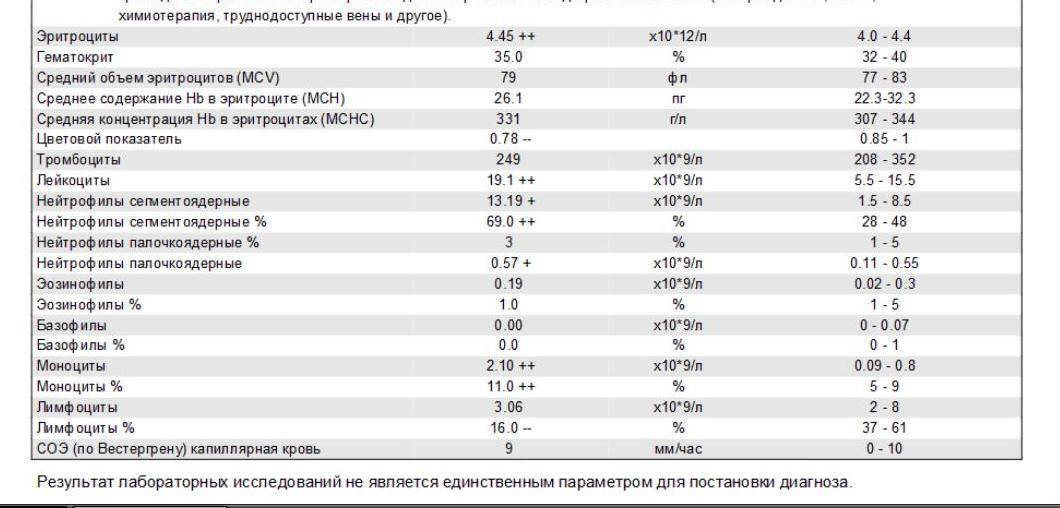column: (35, 28, 375, 459), (849, 28, 919, 459), (647, 28, 707, 459), (484, 28, 536, 459)
